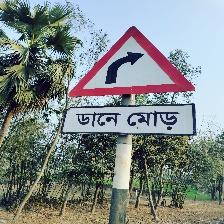Right-turn: (60, 25, 196, 137)
